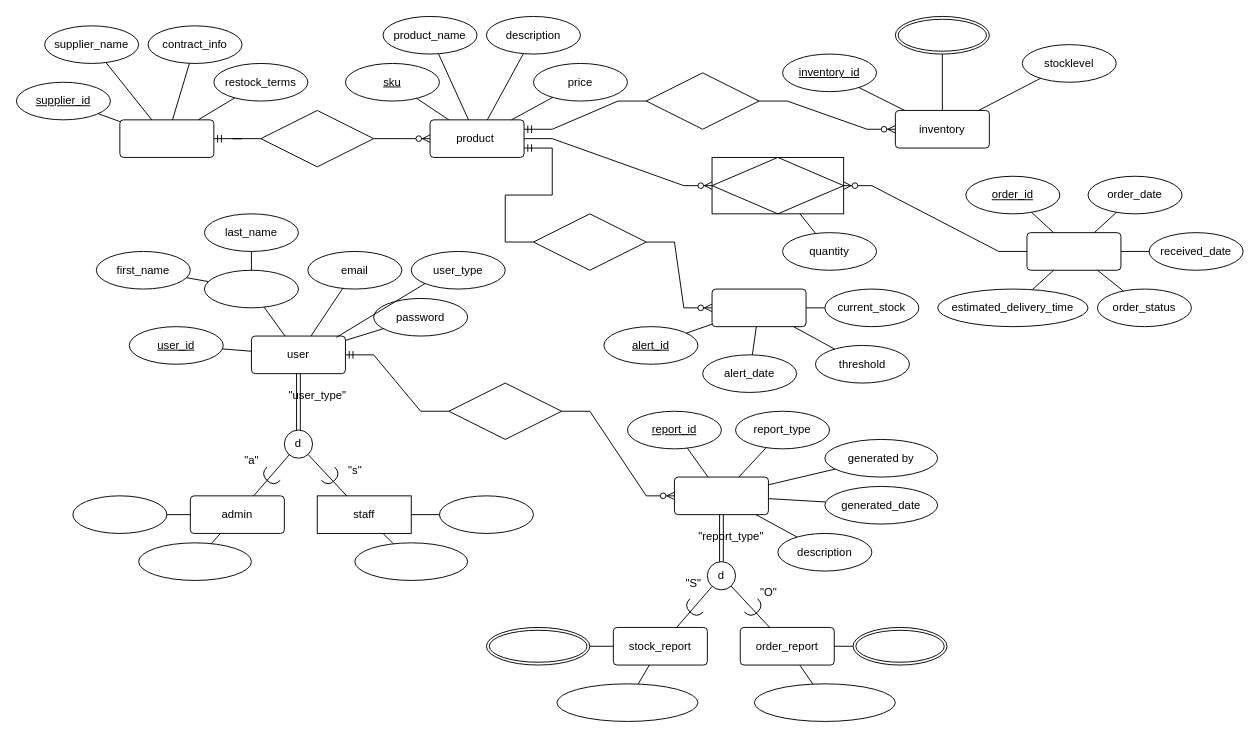
This 1260x738 diagram has some shape labels left out. The centre of each missing label's shape, as x and y in pixels:
admin_level: [119,514]
alert: [758,307]
departement: [411,561]
generates: [505,410]
includes: [777,185]
last_login_audit: [194,561]
location: [941,35]
low_level_items: [538,646]
order: [1073,251]
order_status_summary: [824,702]
pending_orders: [899,646]
report: [721,495]
role: [486,514]
stock_level_summary: [627,702]
supplier: [166,138]
supplies: [317,138]
Traced in: [702,100]
triggers: [589,241]
user_name: [251,288]
